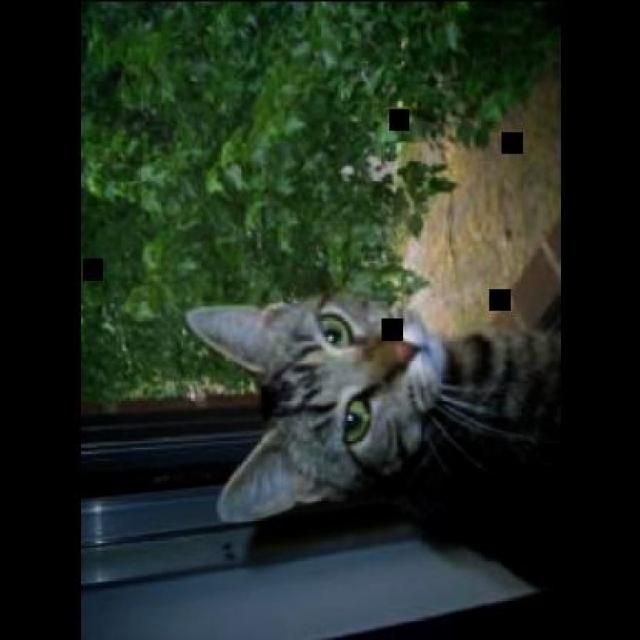unauthorized: (183, 283, 568, 591)
